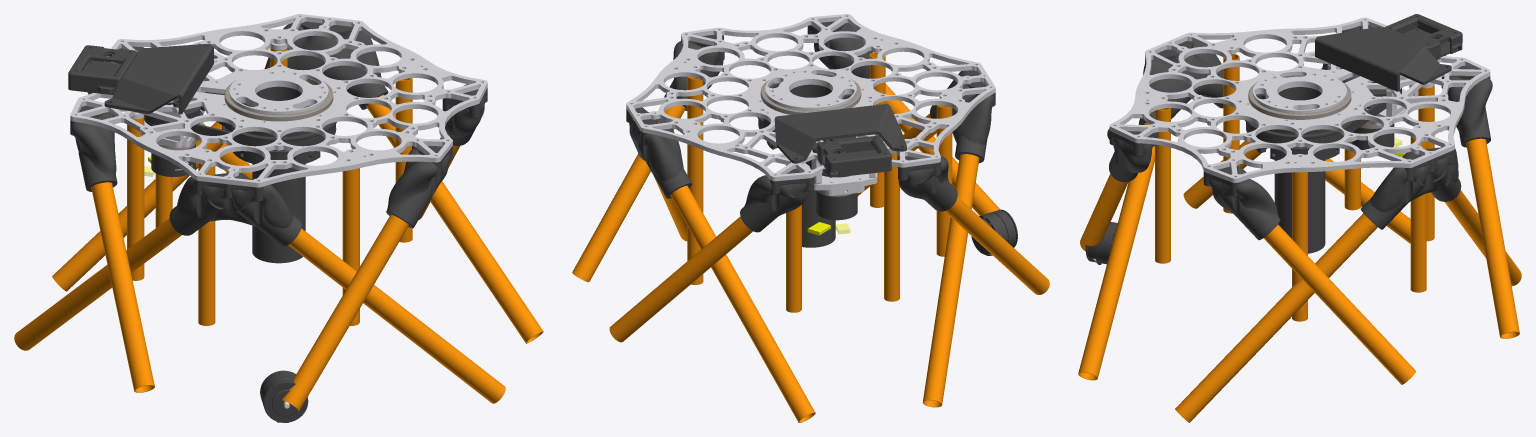
The model's file is TurretBaseRender.glb.
The picture shows the model from 3 angles, left to right: view 1: azimuth 30°, elevation 25°; view 2: azimuth 150°, elevation 25°; view 3: azimuth 270°, elevation 25°; orthographic projection. The views are drawn at different scales.
Parts seen in each view (by area): view 1: Hero_Mk1_TurretBase_SupportTube-1, Hero_Mk1_TurretBase_SandwhichPlate-1, Hero_Mk1_TurretBase_SupportTubeAttachment2-2, Hero_Mk1_TurretBase_EncoderCover-2, Hero_Mk1_TurretBase_SupportTubeAttachment2-4, Hero_Mk1_TurretBase_InnerBearingPlate0-1, Hero_Mk1_TurretBase_Tube-2, Hero_Mk1_TurretBase_SupportTubeAttachment1-5, Hero_Mk1_TurretBase_SupportTubeAttachment1-2, Hero_Mk1_TurretBase_EncoderHolder-1, RoboMaster M3508 P19 Brushless DC Gear Motor(2)^RM3508-1/1^R, Hero_Mk1_TurretBase_EITensionerDrivenPulley-1 (+4 smaller); view 2: Hero_Mk1_TurretBase_SupportTube-1, Hero_Mk1_TurretBase_SandwhichPlate-1, Hero_Mk1_TurretBase_EncoderCover-2, Hero_Mk1_TurretBase_InnerBearingPlate0-1, Hero_Mk1_TurretBase_SupportTubeAttachment1-4, Hero_Mk1_TurretBase_SupportTubeAttachment2-4, Hero_Mk1_TurretBase_EncoderHolder-1, Hero_Mk1_TurretBase_SupportTubeAttachment2-2, Hero_Mk1_TurretBase_SupportTubeAttachment1-2, Hero_Mk1_TurretBase_Tube-2, Hero_Mk1_TurretBase_SupportTubeAttachment1-5, Hero_Mk1_TurretBase_SupportTubeAttachment1-6 (+4 smaller); view 3: Hero_Mk1_TurretBase_SupportTube-1, Hero_Mk1_TurretBase_SandwhichPlate-1, Hero_Mk1_TurretBase_EncoderCover-2, Hero_Mk1_TurretBase_SupportTubeAttachment2-4, Hero_Mk1_TurretBase_Tube-2, Hero_Mk1_TurretBase_SupportTubeAttachment1-6, Hero_Mk1_TurretBase_InnerBearingPlate0-1, Hero_Mk1_TurretBase_SupportTubeAttachment2-2, Hero_Mk1_TurretBase_SupportTubeAttachment1-4, Hero_Mk1_TurretBase_SupportTubeAttachment1-5, Hero_Mk1_TurretBase_EncoderHolder-1, Hero_Mk1_TurretBase_EITensionerDrivenPulley-1 (+4 smaller).
Boxes of the visible parts, left/top/right/bottom form: Hero_Mk1_TurretBase_SupportTube-1: left=14, top=47, right=543, bottom=410; Hero_Mk1_TurretBase_SandwhichPlate-1: left=70, top=14, right=487, bottom=187; Hero_Mk1_TurretBase_SupportTubeAttachment2-2: left=169, top=172, right=301, bottom=246; Hero_Mk1_TurretBase_EncoderCover-2: left=104, top=43, right=213, bottom=114; Hero_Mk1_TurretBase_SupportTubeAttachment2-4: left=264, top=21, right=388, bottom=109; Hero_Mk1_TurretBase_InnerBearingPlate0-1: left=229, top=69, right=328, bottom=114; Hero_Mk1_TurretBase_Tube-2: left=252, top=86, right=305, bottom=263; Hero_Mk1_TurretBase_SupportTubeAttachment1-5: left=386, top=145, right=452, bottom=228; Hero_Mk1_TurretBase_SupportTubeAttachment1-2: left=70, top=106, right=117, bottom=191; Hero_Mk1_TurretBase_EncoderHolder-1: left=68, top=45, right=178, bottom=107; RoboMaster M3508 P19 Brushless DC Gear Motor(2)^RM3508-1/1^R: left=260, top=370, right=308, bottom=422; Hero_Mk1_TurretBase_EITensionerDrivenPulley-1: left=222, top=80, right=336, bottom=164; Hero_Mk1_TurretBase_SupportTube-1: left=572, top=52, right=1049, bottom=422; Hero_Mk1_TurretBase_SandwhichPlate-1: left=626, top=14, right=995, bottom=181; Hero_Mk1_TurretBase_EncoderCover-2: left=774, top=104, right=906, bottom=163; Hero_Mk1_TurretBase_InnerBearingPlate0-1: left=765, top=69, right=856, bottom=110; Hero_Mk1_TurretBase_SupportTubeAttachment1-4: left=740, top=169, right=814, bottom=232; Hero_Mk1_TurretBase_SupportTubeAttachment2-4: left=626, top=107, right=691, bottom=198; Hero_Mk1_TurretBase_EncoderHolder-1: left=812, top=135, right=891, bottom=177; Hero_Mk1_TurretBase_SupportTubeAttachment2-2: left=930, top=70, right=995, bottom=163; Hero_Mk1_TurretBase_SupportTubeAttachment1-2: left=897, top=154, right=957, bottom=211; Hero_Mk1_TurretBase_Tube-2: left=790, top=84, right=835, bottom=247; Hero_Mk1_TurretBase_SupportTubeAttachment1-5: left=807, top=21, right=872, bottom=78; Hero_Mk1_TurretBase_SupportTubeAttachment1-6: left=664, top=35, right=724, bottom=110; Hero_Mk1_TurretBase_SupportTube-1: left=1078, top=54, right=1521, bottom=422; Hero_Mk1_TurretBase_SandwhichPlate-1: left=1109, top=17, right=1490, bottom=182; Hero_Mk1_TurretBase_EncoderCover-2: left=1315, top=27, right=1451, bottom=91; Hero_Mk1_TurretBase_SupportTubeAttachment2-4: left=1360, top=147, right=1461, bottom=229; Hero_Mk1_TurretBase_Tube-2: left=1274, top=87, right=1325, bottom=253; Hero_Mk1_TurretBase_SupportTubeAttachment1-6: left=1203, top=165, right=1280, bottom=240; Hero_Mk1_TurretBase_InnerBearingPlate0-1: left=1253, top=71, right=1346, bottom=113; Hero_Mk1_TurretBase_SupportTubeAttachment2-2: left=1138, top=41, right=1223, bottom=124; Hero_Mk1_TurretBase_SupportTubeAttachment1-4: left=1441, top=66, right=1492, bottom=147; Hero_Mk1_TurretBase_SupportTubeAttachment1-5: left=1107, top=128, right=1158, bottom=182; Hero_Mk1_TurretBase_EncoderHolder-1: left=1382, top=14, right=1462, bottom=59; Hero_Mk1_TurretBase_EITensionerDrivenPulley-1: left=1245, top=93, right=1354, bottom=160.
Bounding box in the file's own units: 0.4371 × 0.2756 × 0.4371.
